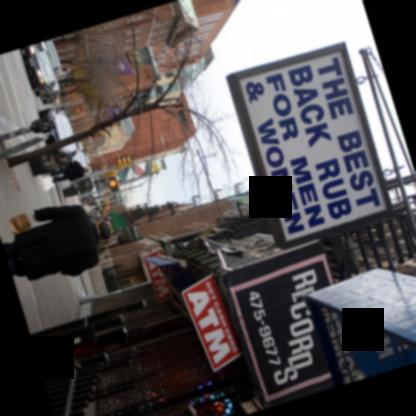handbag: (7, 213, 35, 236)
